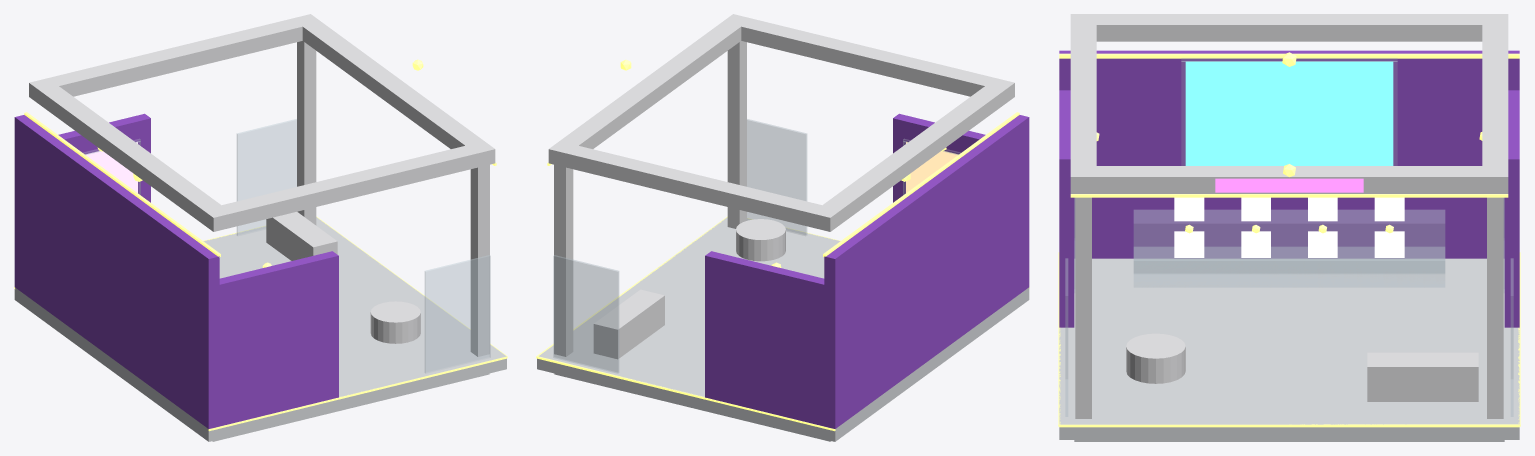
Rendered from Booth_Pre_T01.glb.
3 views of the same model, side by side, from view 1: azimuth 30°, elevation 25°; view 2: azimuth 150°, elevation 25°; view 3: azimuth 270°, elevation 25° (orthographic). The views are drawn at different scales.
Parts seen in each view (by area): view 1: Booth_Pre_T01__Color__Primary, Booth_Pre_T01__Color__Secondary, Booth_Pre_T01__Anti_gravity, Booth_Pre_T01__Glass, Booth_Pre_T01__Glowing_line, Booth_Pre_T01__Image_02__Display; view 2: Booth_Pre_T01__Color__Primary, Booth_Pre_T01__Color__Secondary, Booth_Pre_T01__Anti_gravity, Booth_Pre_T01__Glass, Booth_Pre_T01__Glowing_line, Booth_Pre_T01__Image_01__Display; view 3: Booth_Pre_T01__Anti_gravity, Booth_Pre_T01__Color__Primary, Booth_Pre_T01__Color__Secondary, Booth_Pre_T01__Video_horizon__Display, Booth_Pre_T01__Frame_004__Product, Booth_Pre_T01__Glowing_line, Booth_Pre_T01__Logo_01__Display, Booth_Pre_T01__Frame_001__Video, Booth_Pre_T01__Glass, Booth_Pre_T01__Product_04__Display, Booth_Pre_T01__Product_01__Display, Booth_Pre_T01 (+6 smaller).
Part boxes in pixels (x1=…): Booth_Pre_T01__Color__Primary: x1=14, y1=113, x2=338, y2=428; Booth_Pre_T01__Color__Secondary: x1=29, y1=14, x2=495, y2=356; Booth_Pre_T01__Anti_gravity: x1=14, y1=217, x2=506, y2=441; Booth_Pre_T01__Glass: x1=237, y1=119, x2=490, y2=373; Booth_Pre_T01__Glowing_line: x1=14, y1=112, x2=507, y2=431; Booth_Pre_T01__Image_02__Display: x1=85, y1=142, x2=137, y2=192; Booth_Pre_T01__Color__Primary: x1=705, y1=113, x2=1029, y2=428; Booth_Pre_T01__Color__Secondary: x1=548, y1=14, x2=1014, y2=359; Booth_Pre_T01__Anti_gravity: x1=537, y1=217, x2=1029, y2=441; Booth_Pre_T01__Glass: x1=553, y1=119, x2=806, y2=373; Booth_Pre_T01__Glowing_line: x1=536, y1=112, x2=1029, y2=431; Booth_Pre_T01__Image_01__Display: x1=906, y1=142, x2=958, y2=192; Booth_Pre_T01__Anti_gravity: x1=1059, y1=258, x2=1519, y2=441; Booth_Pre_T01__Color__Primary: x1=1059, y1=50, x2=1519, y2=327; Booth_Pre_T01__Color__Secondary: x1=1070, y1=14, x2=1508, y2=418; Booth_Pre_T01__Video_horizon__Display: x1=1185, y1=61, x2=1393, y2=165; Booth_Pre_T01__Frame_004__Product: x1=1133, y1=210, x2=1445, y2=287; Booth_Pre_T01__Glowing_line: x1=1058, y1=53, x2=1520, y2=427; Booth_Pre_T01__Logo_01__Display: x1=1215, y1=178, x2=1363, y2=192; Booth_Pre_T01__Frame_001__Video: x1=1181, y1=58, x2=1397, y2=165; Booth_Pre_T01__Glass: x1=1065, y1=258, x2=1513, y2=416; Booth_Pre_T01__Product_04__Display: x1=1374, y1=231, x2=1404, y2=257; Booth_Pre_T01__Product_01__Display: x1=1174, y1=231, x2=1204, y2=257; Booth_Pre_T01: x1=1074, y1=132, x2=1504, y2=292.
Bounding box in the file's own units: 11.47 × 8.6 × 12.46.
